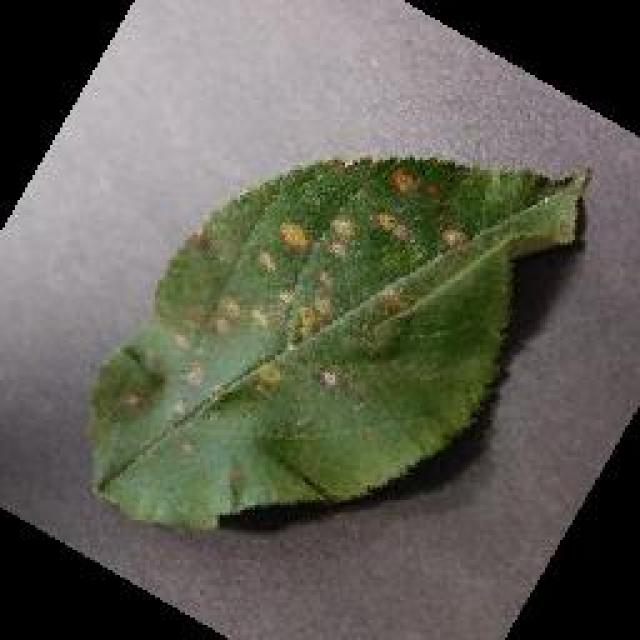Apple___Cedar_apple_rust: (81, 149, 598, 545)
